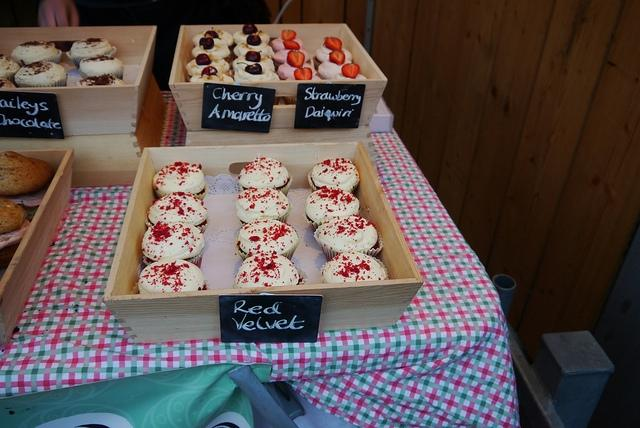cherry: (236, 62, 262, 74), (246, 30, 262, 46), (200, 66, 218, 77), (200, 36, 214, 50), (196, 54, 212, 66), (246, 50, 262, 62), (242, 23, 256, 34), (204, 27, 218, 38)
strawberry: (287, 50, 305, 68), (328, 48, 346, 65), (323, 36, 342, 51), (342, 63, 359, 78), (294, 67, 312, 80), (283, 40, 300, 50), (282, 29, 296, 40)
